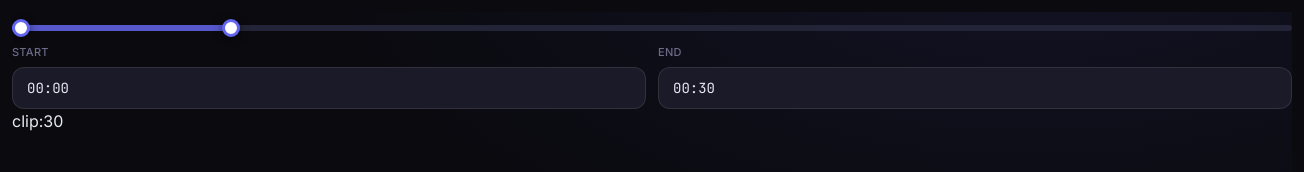
Test: trim range › keeps numeric inputs and clip length in sync with the slider
The image size is (1304, 172).
Set the slider named "Clip start" to "8" at (76, 28), box [12, 12, 1292, 44]
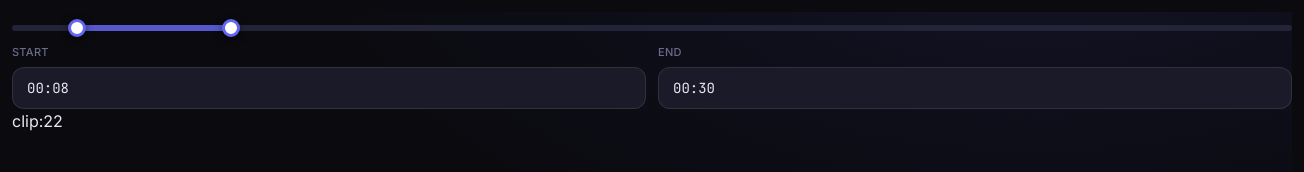
Expected: the field named "Clip start time" holds "00:08", [12, 66, 646, 108]
Result: the text "clip:22" is shown at [12, 110, 63, 130]
Set the slider named "Clip end" to "40" at (301, 28), box [12, 12, 1292, 44]
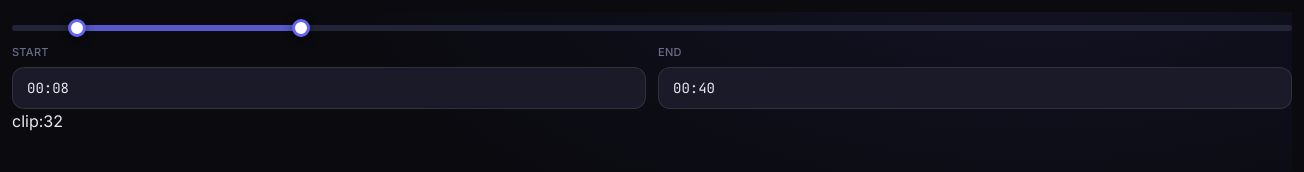
Result: the field named "Clip end time" holds "00:40" at [658, 66, 1292, 108]
Result: the text "clip:32" is shown at [12, 110, 63, 130]
